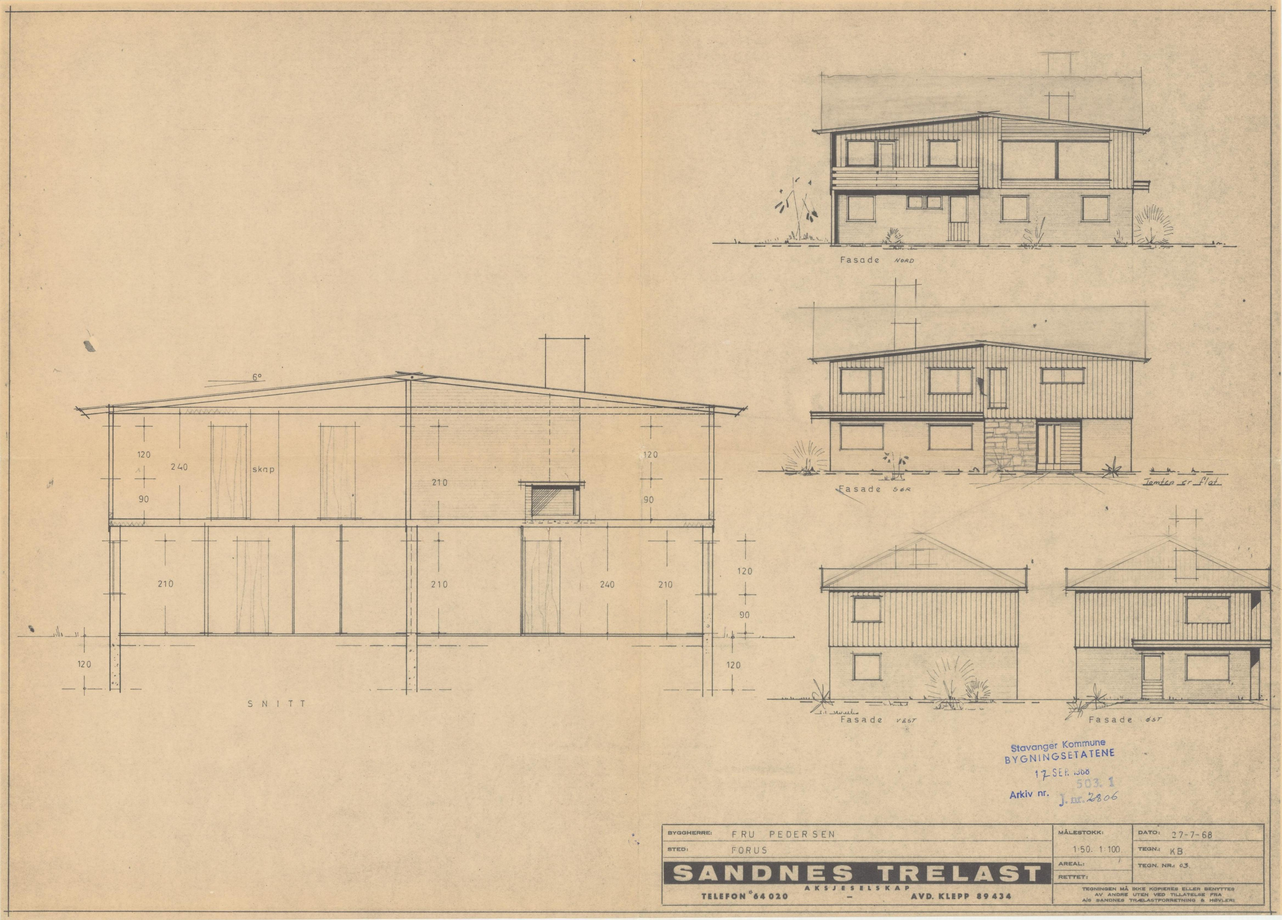fasade: (810, 322, 1151, 475), (811, 96, 1154, 246), (815, 547, 1028, 700), (1070, 549, 1273, 700)
snitt: (74, 340, 747, 693)
